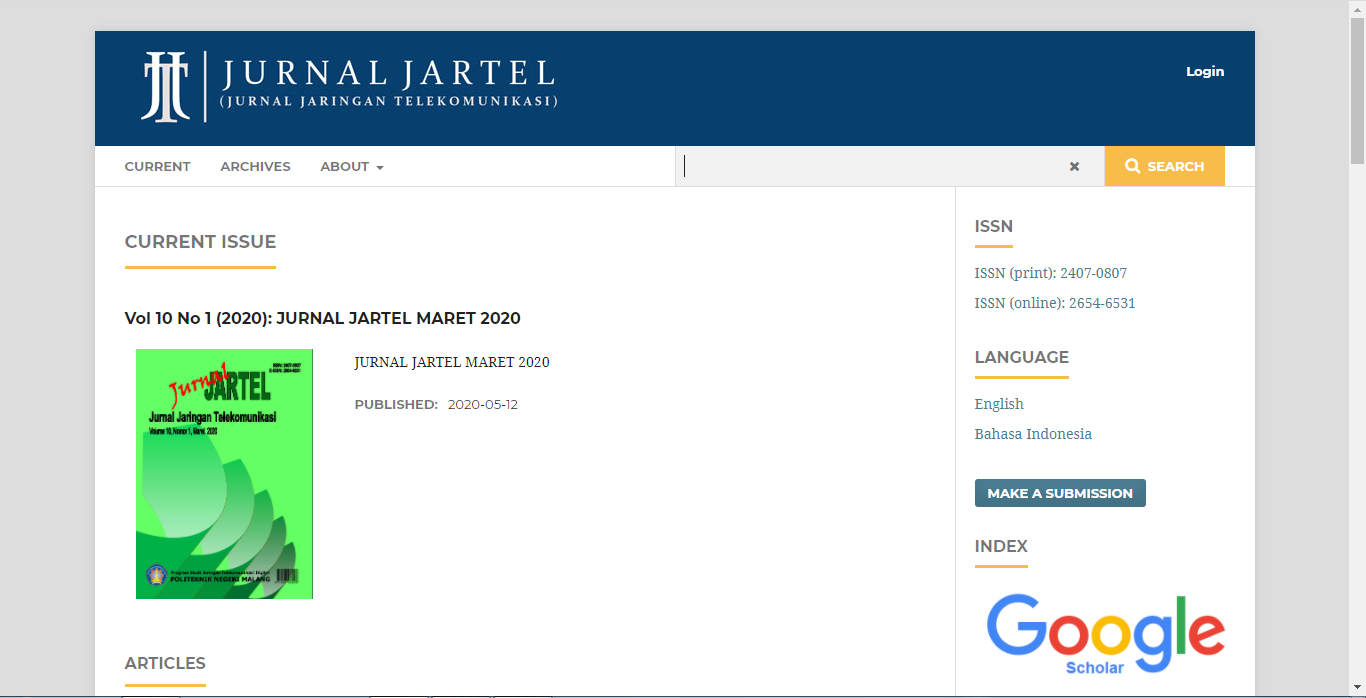Button: (970, 476, 1148, 511), (1105, 144, 1225, 189)
Image: (95, 31, 572, 146), (135, 349, 310, 599), (971, 566, 1242, 688)
Menu Bar: (95, 141, 403, 183)
Nav Bar: (963, 213, 1142, 316), (969, 352, 1104, 443), (1184, 58, 1228, 83)
Side Bar: (954, 190, 1253, 698)
Text Field: (675, 146, 1102, 189)
